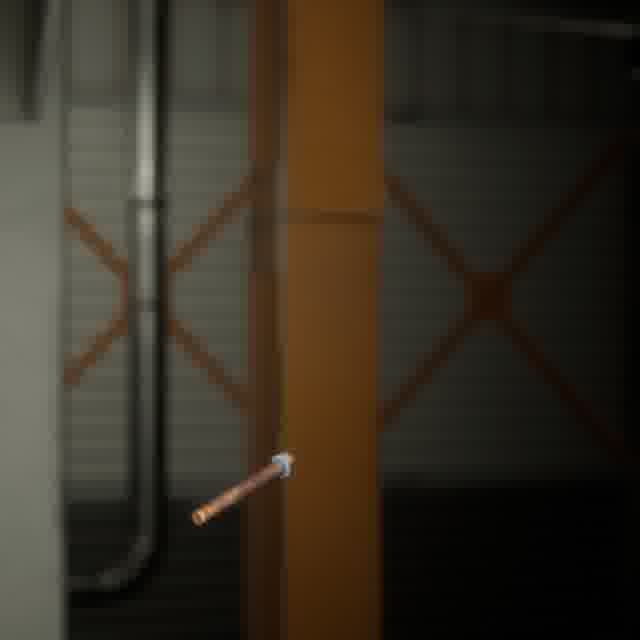bolt: (187, 447, 299, 529)
